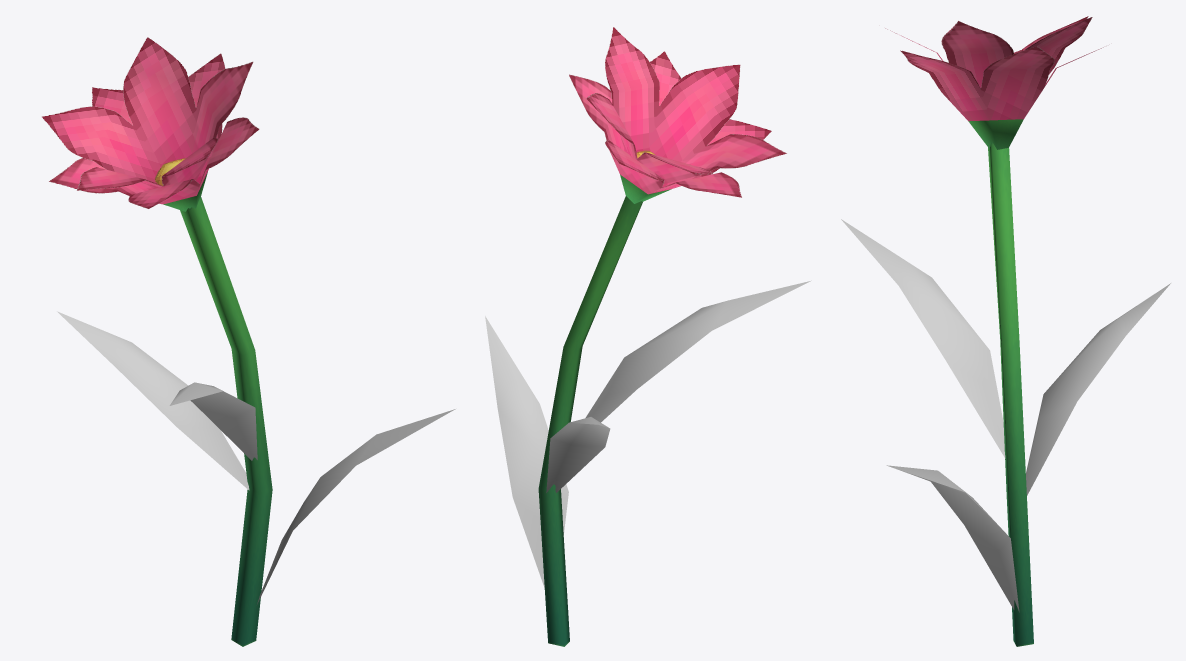
File: Flower_Bellflower_3.fbx
3 views of the same model, side by side, from view 1: azimuth 30°, elevation 25°; view 2: azimuth 150°, elevation 25°; view 3: azimuth 270°, elevation 25° (orthographic). The views are drawn at different scales.
Parts seen in each view (by area): view 1: Cone.091, Cube.143, object6.092, Cone.092, object6.091, object6.095; view 2: Cone.091, Cube.143, object6.095, object6.091, Cone.092, object6.092, Cone.093; view 3: Cube.143, object6.091, Cone.092, object6.092, object6.095, Cone.091, Cone.093.
Part boxes in pixels (box(x1,y1,x2,y2)): Cone.091: box(42, 37, 253, 190); Cube.143: box(180, 196, 272, 646); object6.092: box(57, 311, 249, 490); Cone.092: box(49, 53, 259, 208); object6.091: box(169, 382, 257, 460); object6.095: box(257, 409, 455, 604); Cone.091: box(586, 27, 786, 183); Cube.143: box(538, 196, 642, 646); object6.095: box(485, 316, 568, 587); object6.091: box(585, 280, 811, 422); Cone.092: box(569, 51, 771, 197); object6.092: box(546, 417, 610, 492); Cone.093: box(620, 174, 671, 203); Cube.143: box(988, 142, 1033, 646); object6.091: box(841, 219, 1005, 458); Cone.092: box(900, 46, 1103, 121); object6.092: box(1026, 283, 1170, 495); object6.095: box(886, 465, 1019, 612); Cone.091: box(885, 16, 1092, 87); Cone.093: box(968, 119, 1023, 149).
Size of the model in its own units: 38.74 by 62.79 by 30.23.
